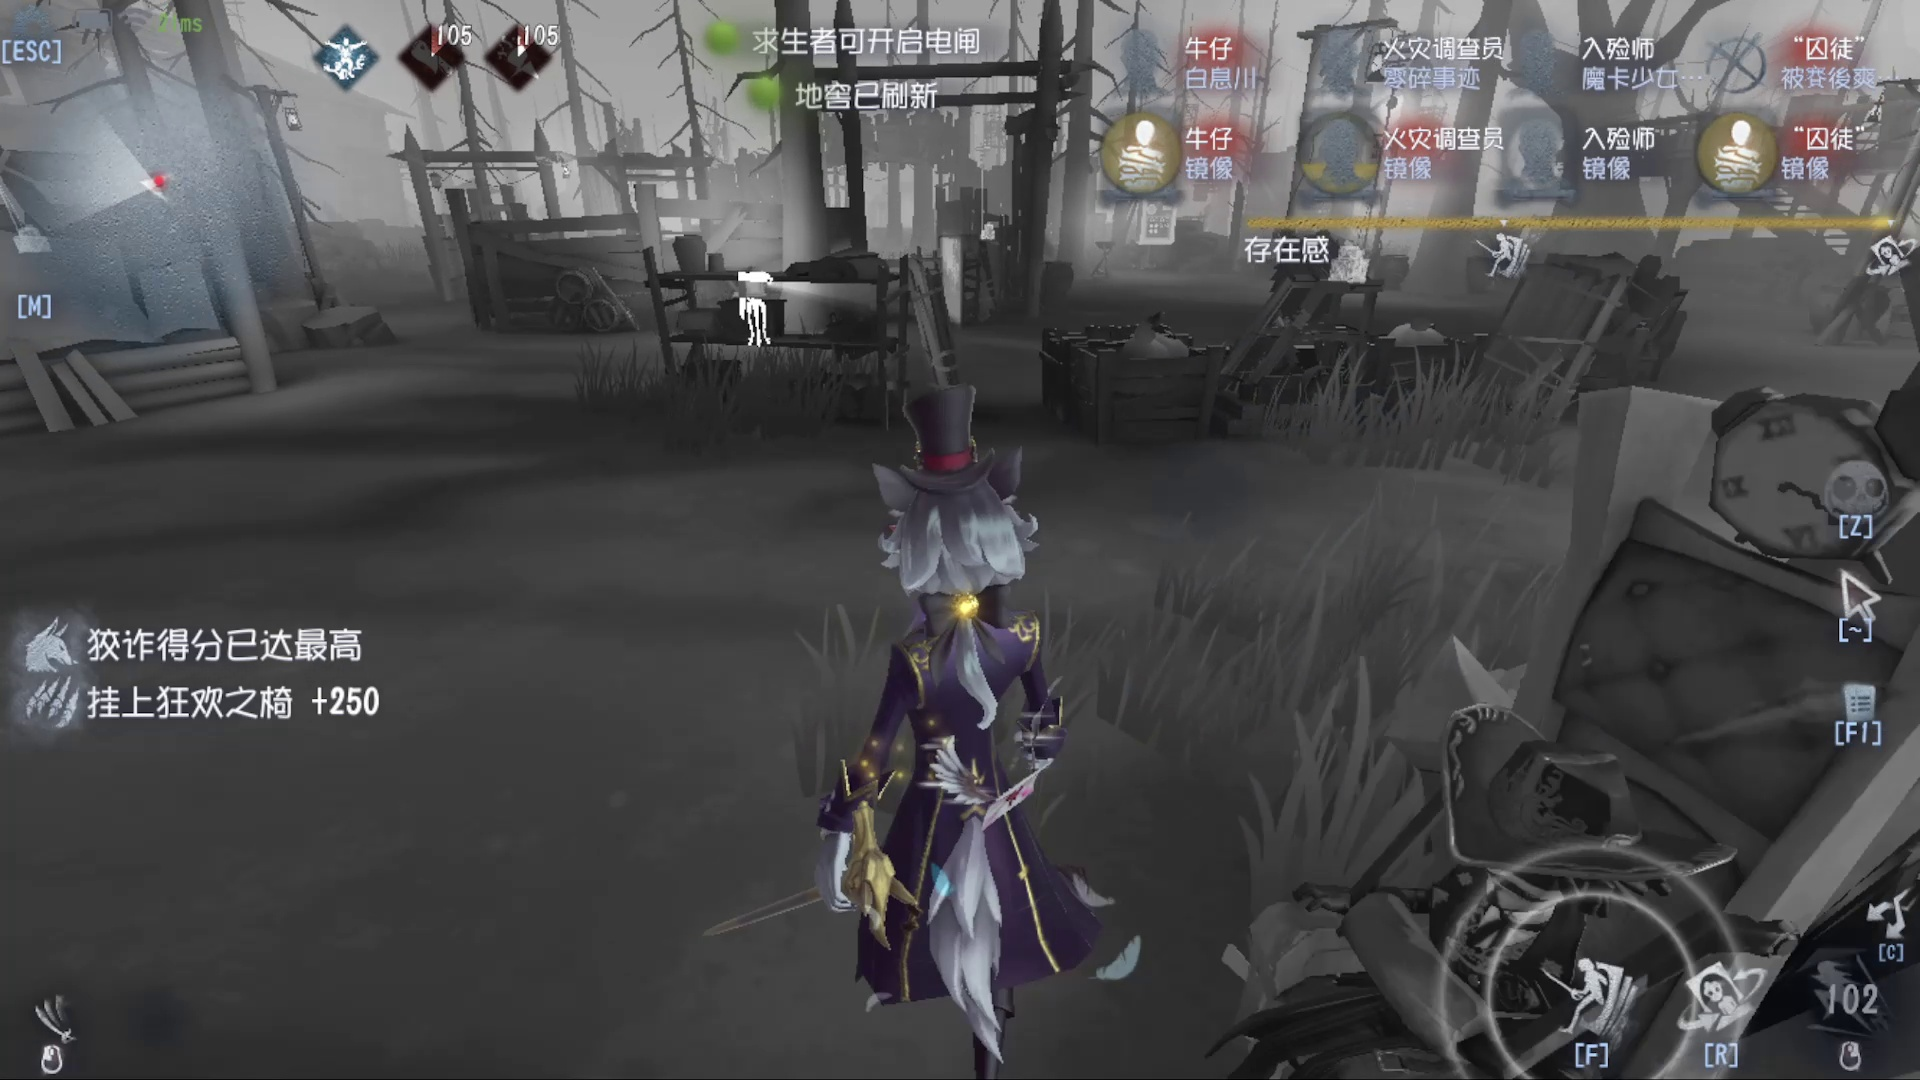木板: (1448, 233, 1610, 488), (873, 229, 1000, 415)
狂欢之椅: (1242, 390, 1888, 1080)
